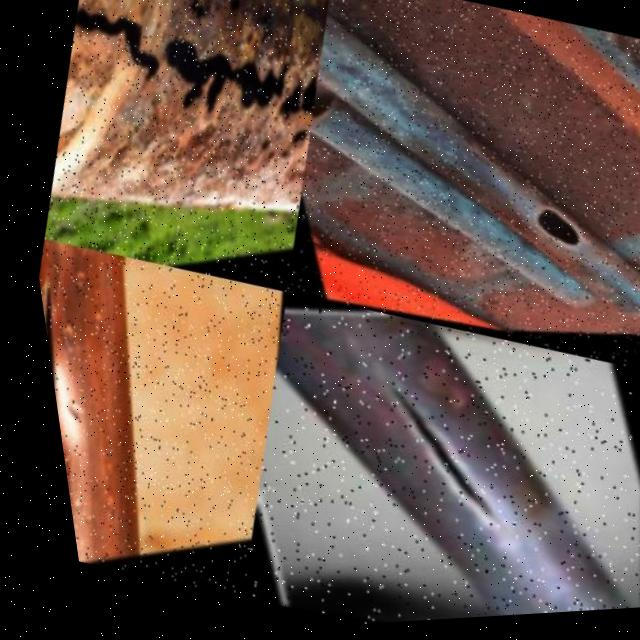crack: (368, 389, 490, 550)
hole: (129, 9, 263, 158), (51, 1, 190, 125), (210, 34, 309, 140), (506, 200, 593, 275), (280, 77, 321, 148), (265, 87, 312, 140), (273, 125, 311, 174), (181, 1, 220, 38), (223, 1, 257, 37), (248, 142, 278, 171), (271, 156, 289, 177), (258, 158, 275, 178)
rupture: (33, 274, 52, 426)
